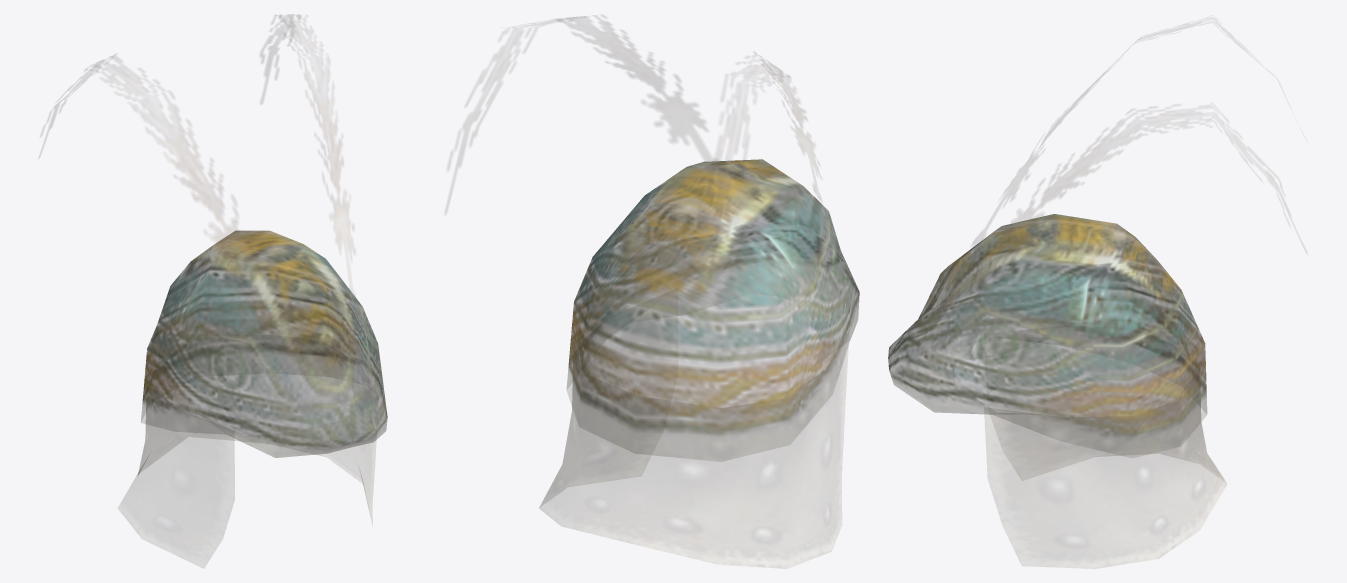
The model's file is heavy_02_ha.glb.
The picture shows the model from 3 angles, left to right: view 1: azimuth 30°, elevation 25°; view 2: azimuth 150°, elevation 25°; view 3: azimuth 270°, elevation 25°; orthographic projection. The views are drawn at different scales.
Visible parts, largest first — view 1: heavy_02_ha; view 2: heavy_02_ha; view 3: heavy_02_ha.
Boxes of the visible parts, box(x1,y1,x2,y2) form: heavy_02_ha: box(39, 14, 387, 568); heavy_02_ha: box(445, 15, 859, 568); heavy_02_ha: box(888, 17, 1306, 568).
Size of the model in its own units: 0.2364 by 0.3855 by 0.3361.
1 material, 1 textured.
